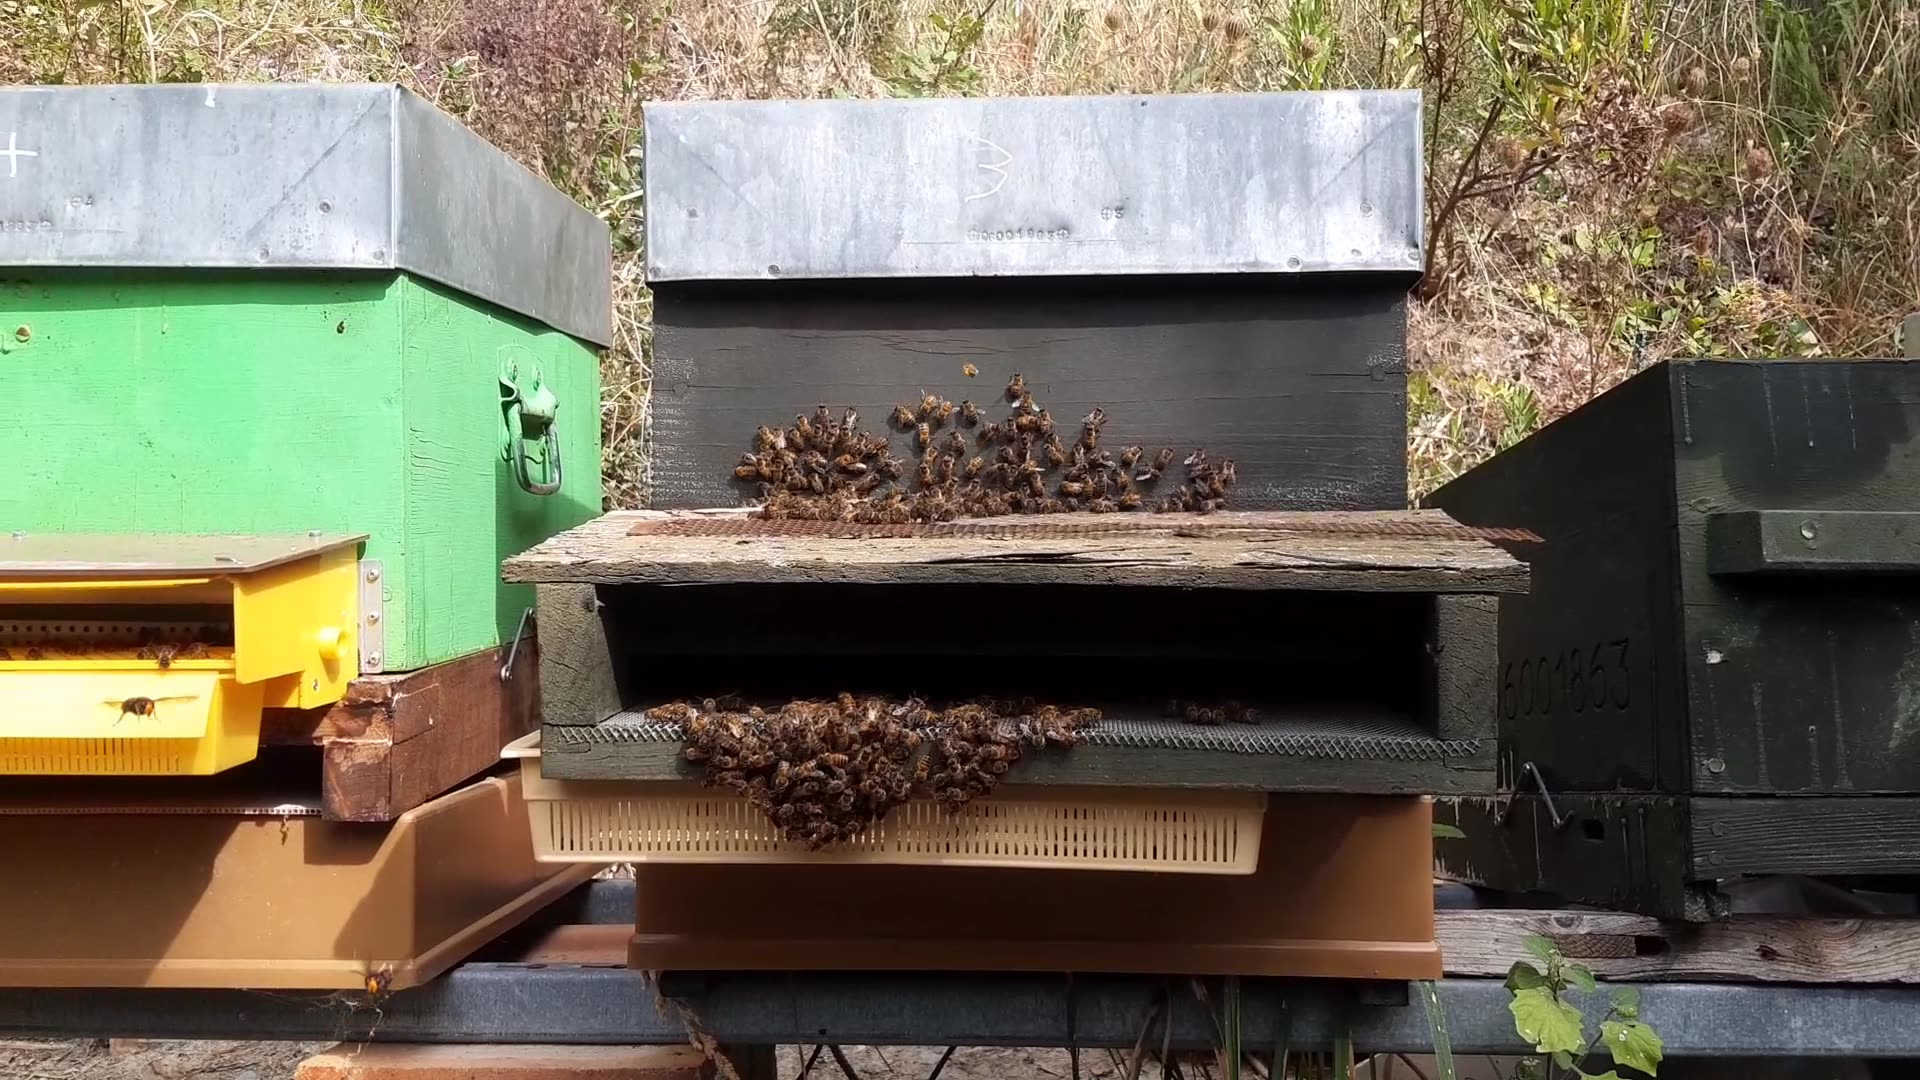bee: (762, 764, 844, 848), (928, 459, 1001, 541), (829, 462, 923, 514), (1135, 448, 1218, 505), (1022, 458, 1098, 513), (927, 382, 998, 439), (802, 415, 878, 460), (721, 684, 804, 724), (816, 676, 899, 715), (1026, 414, 1073, 465), (948, 378, 1004, 417)
